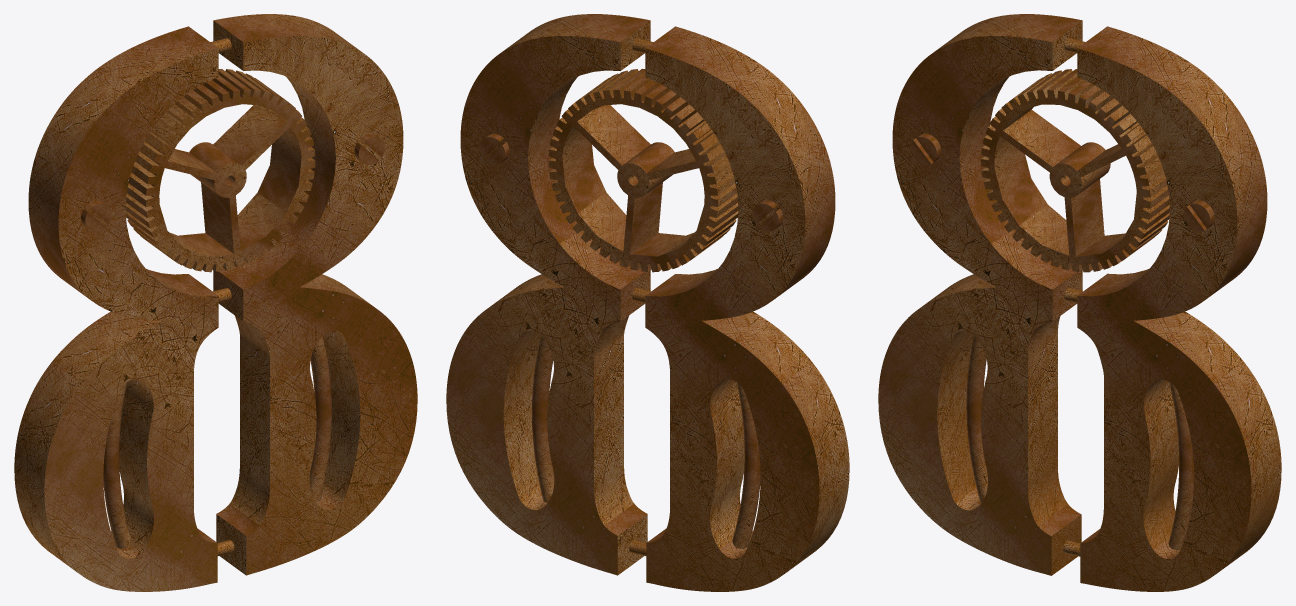
The picture shows the model from 3 angles, left to right: view 1: azimuth 30°, elevation 25°; view 2: azimuth 150°, elevation 25°; view 3: azimuth 330°, elevation 25°; orthographic projection.
Visible parts, largest first — view 1: 012, Cogwheel_344, Tube_696, Tube_555, Screw_689, Screw_688; view 2: 012, Cogwheel_344, Tube_696, Tube_555, Screw_689, Screw_688; view 3: 012, Cogwheel_344, Tube_555, Tube_696, Screw_688, Screw_689.
Part boxes in pixels (x1,y1,x2,y2): 012: (14, 14, 417, 591); Cogwheel_344: (125, 69, 315, 272); Tube_696: (309, 336, 331, 502); Tube_555: (103, 382, 131, 548); Screw_689: (81, 200, 111, 231); Screw_688: (354, 134, 384, 164); 012: (446, 14, 849, 591); Cogwheel_344: (548, 68, 738, 272); Tube_696: (532, 336, 554, 502); Tube_555: (732, 382, 760, 548); Screw_689: (752, 200, 782, 231); Screw_688: (479, 134, 509, 164); 012: (878, 14, 1281, 591); Cogwheel_344: (981, 69, 1169, 272); Tube_555: (966, 336, 987, 502); Tube_696: (1168, 382, 1194, 550); Screw_688: (1184, 200, 1214, 231); Screw_689: (910, 133, 940, 164).
Size of the model in its own units: 71.74 by 98.09 by 12.89.
1 material, 1 textured.
